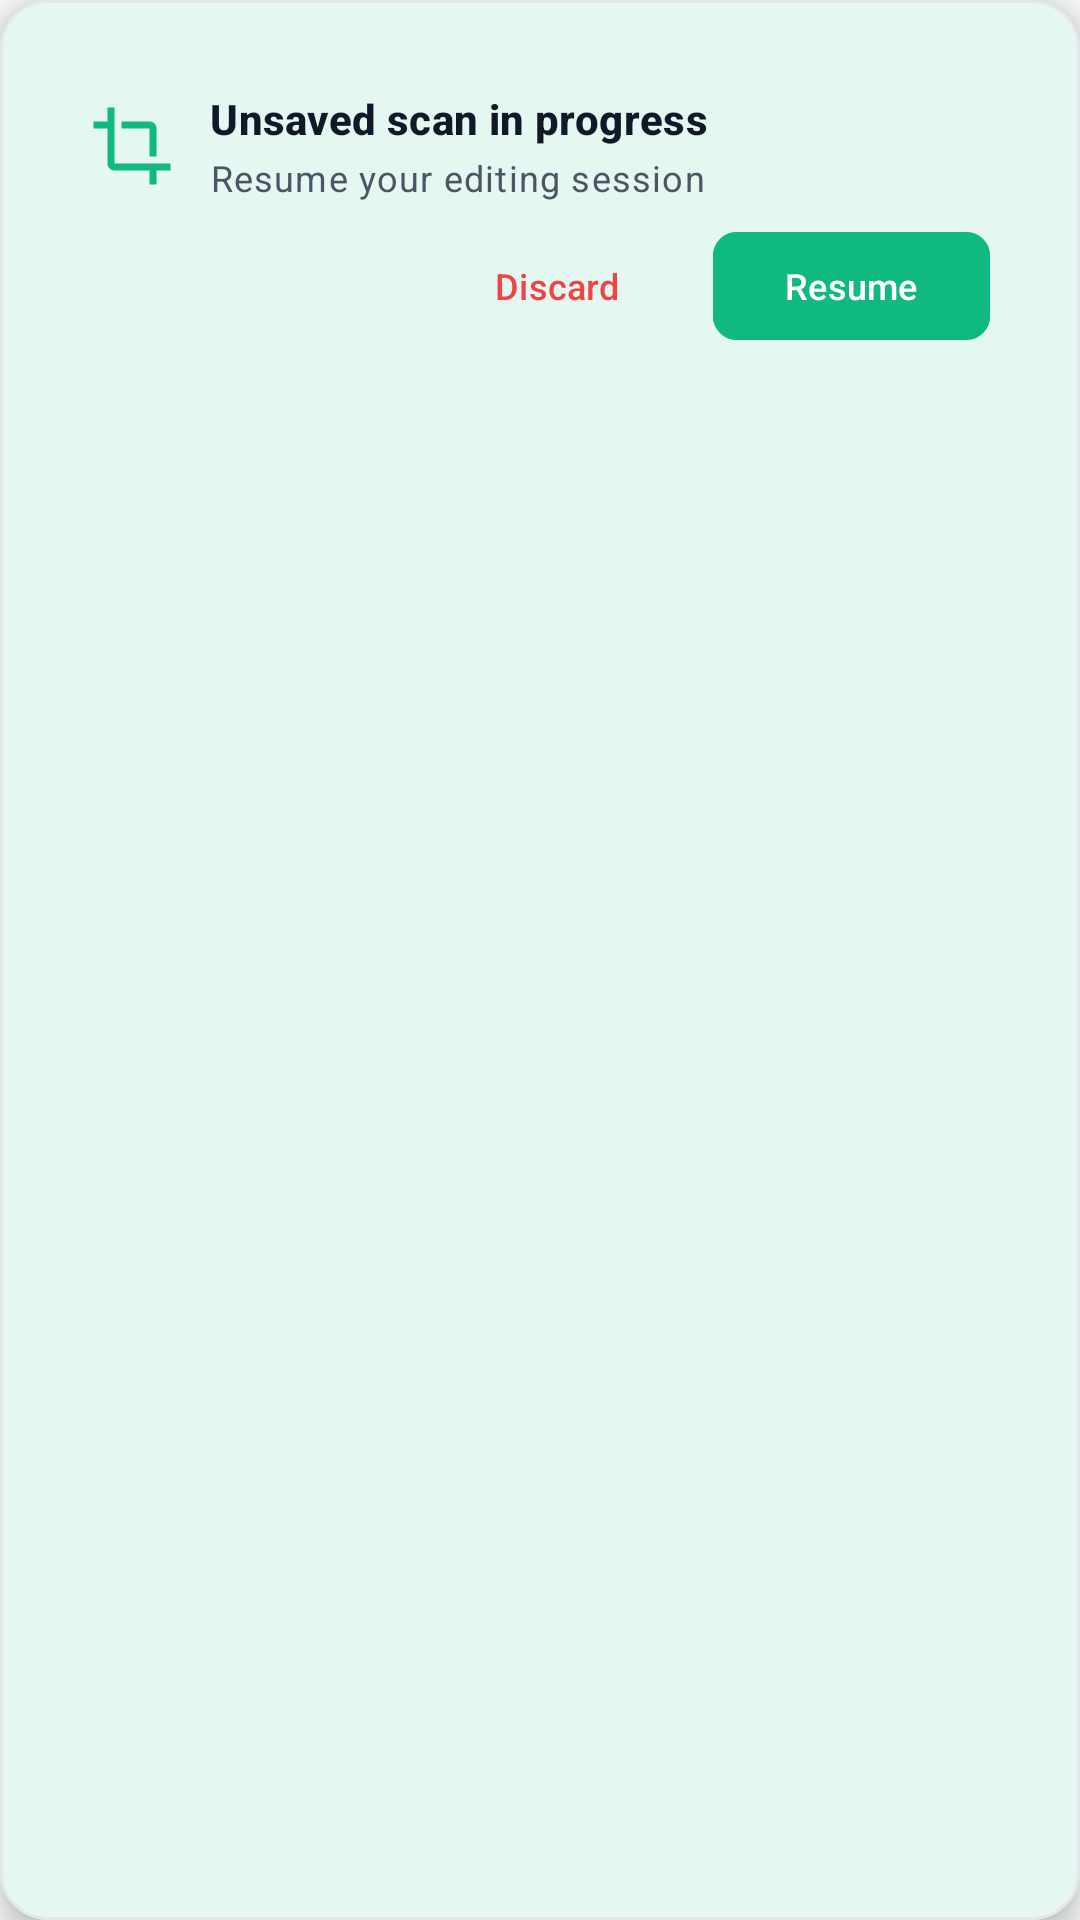

Where icons sit on this 1080x1920 app screen, as [x1,y1,x2,y2]:
crop: [93,107,171,185]
